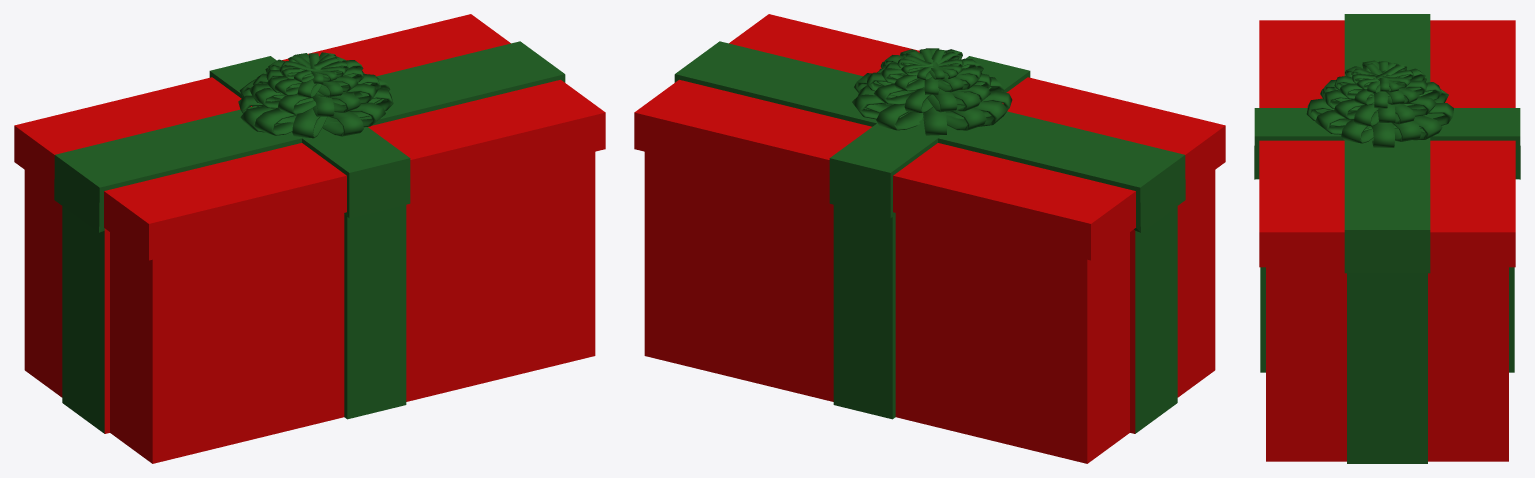
The model's file is Gift.fbx.
3 renders of one model, left to right at view 1: azimuth 30°, elevation 25°; view 2: azimuth 150°, elevation 25°; view 3: azimuth 270°, elevation 25°, orthographic. The views are drawn at different scales.
Visible parts, largest first — view 1: Box, Lid; view 2: Box, Lid; view 3: Lid, Box.
Part boxes in pixels (bbox=[...]): Box: bbox=[24, 152, 595, 463]; Lid: bbox=[14, 14, 605, 260]; Box: bbox=[644, 152, 1215, 463]; Lid: bbox=[634, 14, 1225, 260]; Lid: bbox=[1254, 14, 1520, 273]; Box: bbox=[1260, 267, 1514, 463].
Bounding box in the file's own units: 422 × 259 × 219.
